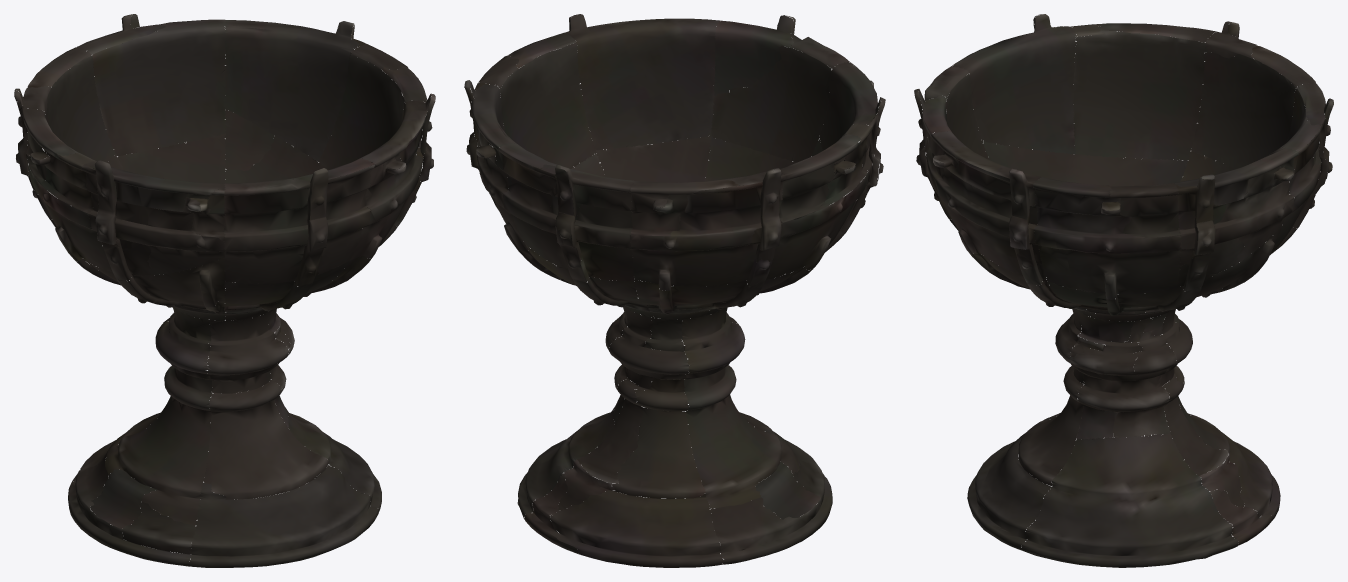
The model's file is statue_urn.glb.
3 views of the same model, side by side, from view 1: azimuth 30°, elevation 25°; view 2: azimuth 150°, elevation 25°; view 3: azimuth 270°, elevation 25° (orthographic).
Parts seen in each view (by area): view 1: tripo_node_e0f72afb-8d76-49da-9873-3061c04840bf; view 2: tripo_node_e0f72afb-8d76-49da-9873-3061c04840bf; view 3: tripo_node_e0f72afb-8d76-49da-9873-3061c04840bf.
Boxes of the visible parts, x1,y1,x2,y2 form: tripo_node_e0f72afb-8d76-49da-9873-3061c04840bf: (14, 14, 435, 567); tripo_node_e0f72afb-8d76-49da-9873-3061c04840bf: (464, 14, 885, 567); tripo_node_e0f72afb-8d76-49da-9873-3061c04840bf: (914, 14, 1333, 567).
Bounding box in the file's own units: 0.9442 × 1 × 0.9314.
1 material, 1 textured.
